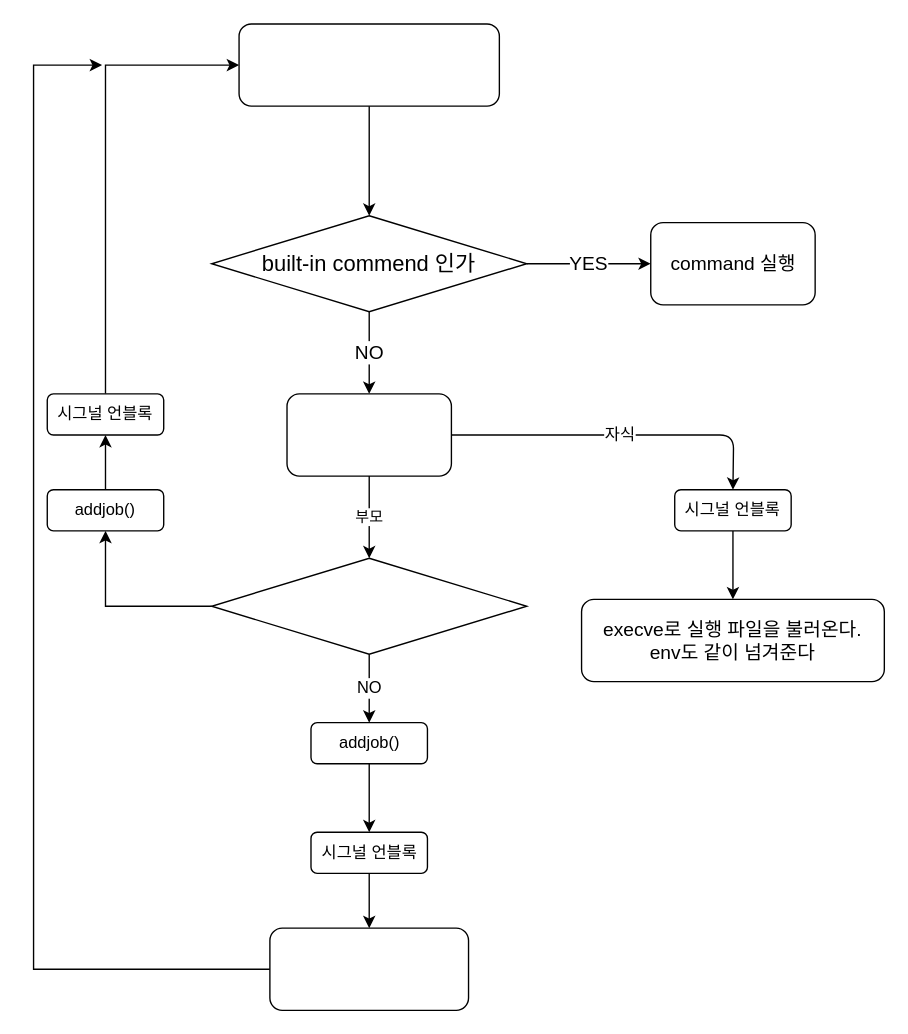
The diagram is 908 pixels wide and 1034 high, and some of its shapes have lost their labels. The shapes that lost their labels are listed below. From the top down, each one's box as (x1, y1, x2, y2) in pixels, then its label:
(238, 23, 499, 106): 명령어 입력
(286, 393, 451, 476): fork()
(210, 557, 527, 654): 백그라운드 프로세스인가?
(269, 927, 469, 1010): 자식 끝날 때까지 기다리기
